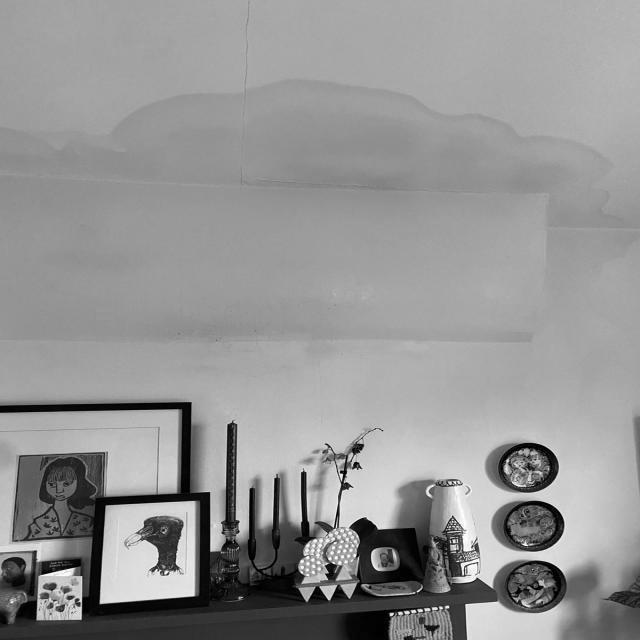stain marks: (114, 78, 452, 372), (455, 107, 637, 361), (0, 120, 111, 376)
